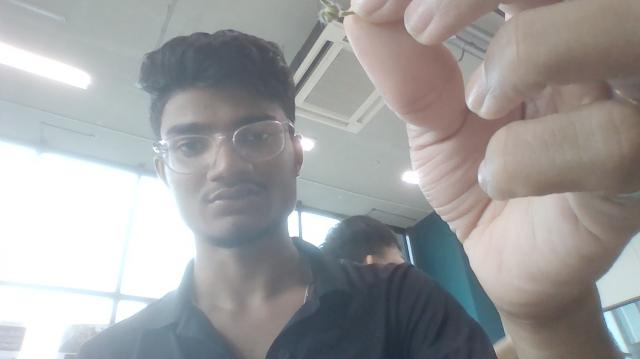Fruit Bud: (318, 0, 346, 24), (315, 2, 342, 26)
